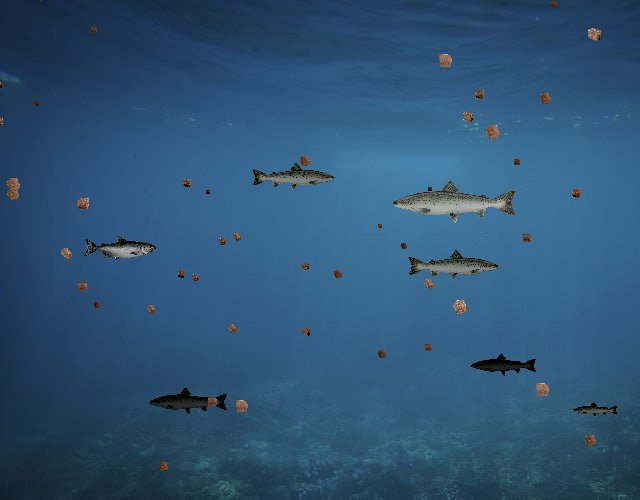Fish: (390, 178, 519, 224), (407, 249, 501, 283), (250, 161, 336, 192), (148, 387, 229, 416), (83, 236, 156, 262), (470, 352, 538, 377), (572, 402, 619, 419)
Pellet: (54, 241, 79, 266), (578, 428, 602, 452), (29, 98, 41, 110)
